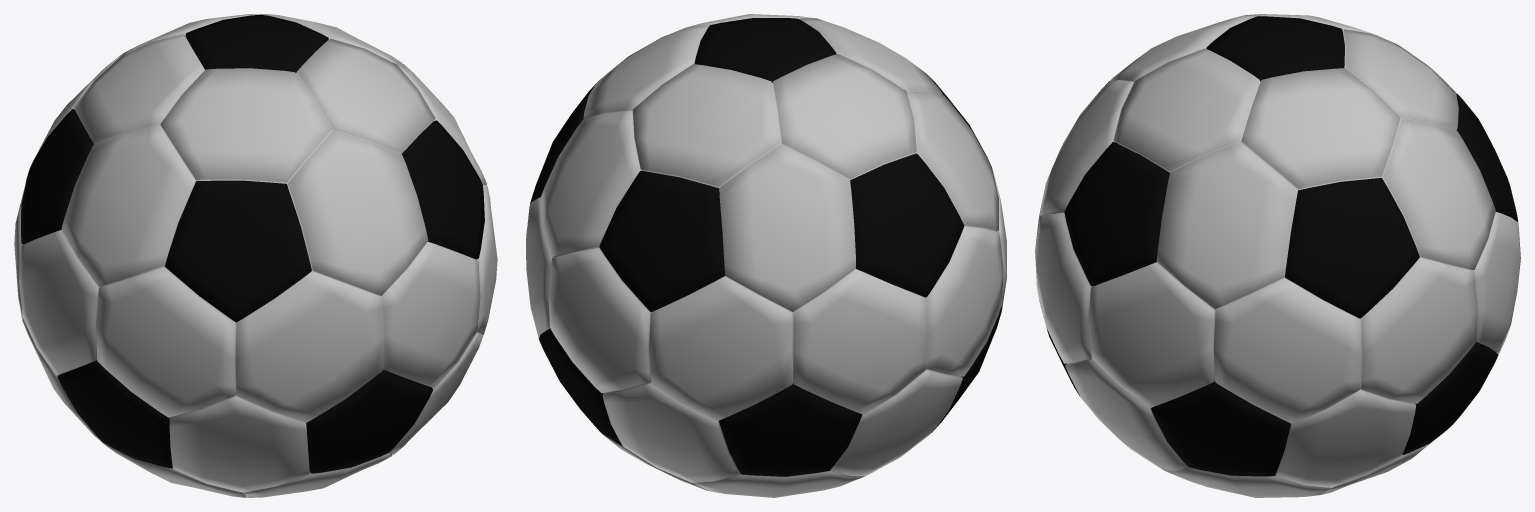
Rendered from Generic_Soccer_Ball.glb.
3 renders of one model, left to right at view 1: azimuth 30°, elevation 25°; view 2: azimuth 150°, elevation 25°; view 3: azimuth 270°, elevation 25°, orthographic.
Visible parts, largest first — view 1: Ball_ball_0; view 2: Ball_ball_0; view 3: Ball_ball_0.
Part boxes in pixels (x1,y1,x2,y2): Ball_ball_0: [14, 14, 497, 497]; Ball_ball_0: [526, 14, 1006, 497]; Ball_ball_0: [1035, 14, 1520, 497].
Bounding box in the file's own units: 176 × 176 × 176.
Materials: 1 (1 with a texture image).
